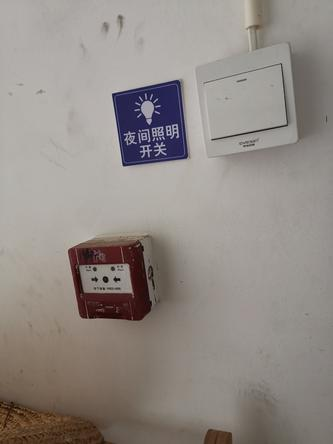switch: (200, 60, 289, 142)
